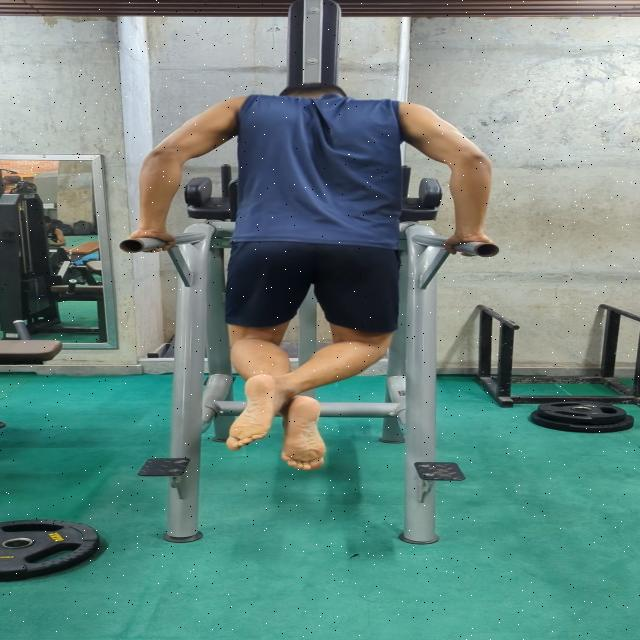Normal_Dips: (124, 72, 501, 475)
